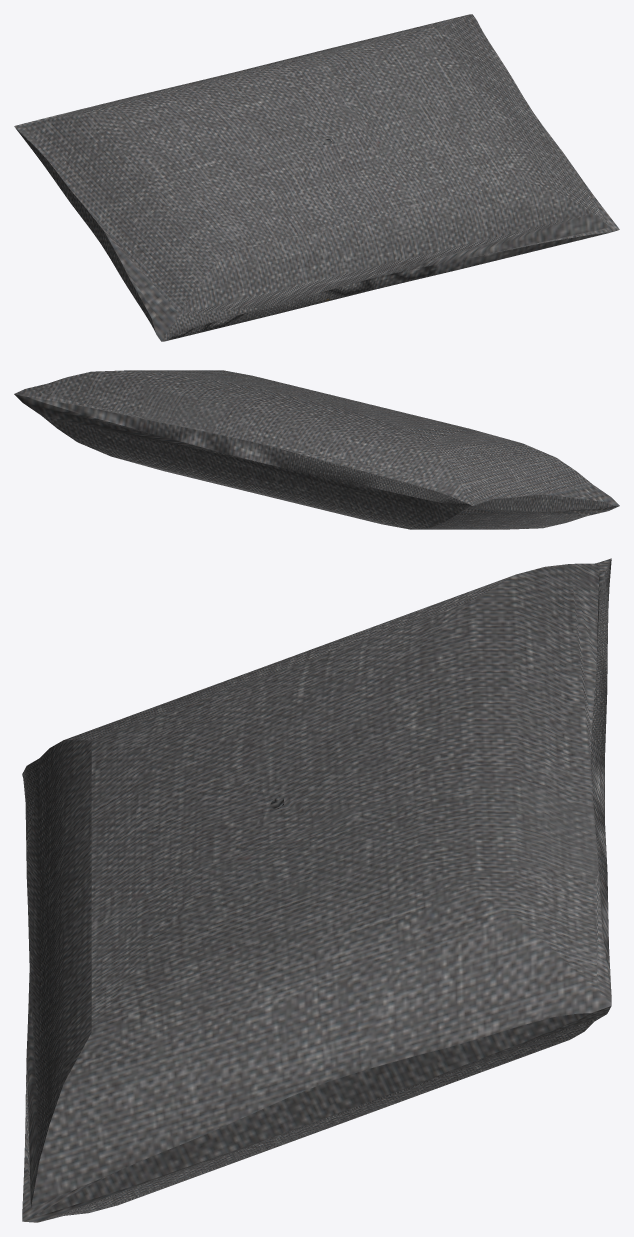
File: pillow4.glb
3 renders of one model, top to bottom at view 1: azimuth 30°, elevation 25°; view 2: azimuth 150°, elevation 25°; view 3: azimuth 270°, elevation 25°, orthographic. The views are drawn at different scales.
Parts seen in each view (by area): view 1: Pillows; view 2: Pillows; view 3: Pillows.
Boxes of the visible parts, box(x1,y1,x2,y2) form: Pillows: box(14, 14, 619, 341); Pillows: box(14, 370, 619, 529); Pillows: box(22, 558, 611, 1222).
Bounding box in the file's own units: 0.6481 × 0.1951 × 0.3606.
1 material, 1 textured.
